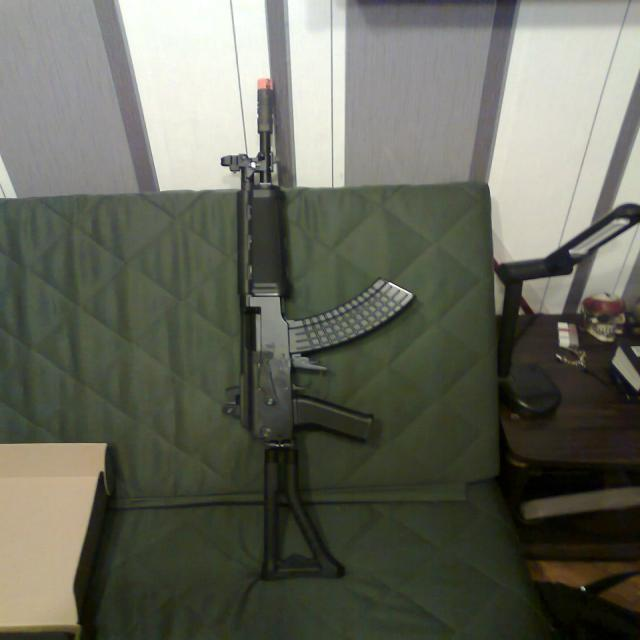firearm: (219, 76, 418, 582)
